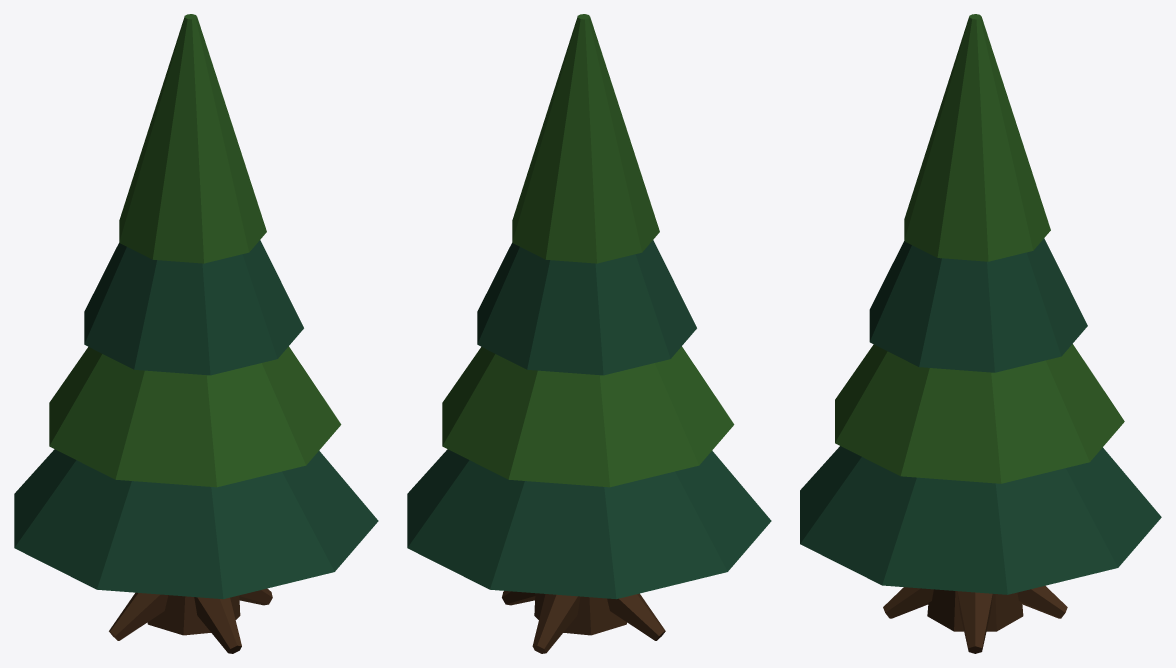
Rendered from Tree1.fbx.
3 renders of one model, left to right at view 1: azimuth 30°, elevation 25°; view 2: azimuth 150°, elevation 25°; view 3: azimuth 270°, elevation 25°, orthographic.
Parts seen in each view (by area): view 1: Tree1_Mesh; view 2: Tree1_Mesh; view 3: Tree1_Mesh.
Boxes of the visible parts, x1,y1,x2,y2 form: Tree1_Mesh: [14, 14, 378, 653]; Tree1_Mesh: [407, 14, 771, 653]; Tree1_Mesh: [800, 14, 1161, 653].
Bounding box in the file's own units: 1.04 × 1.89 × 1.03.
